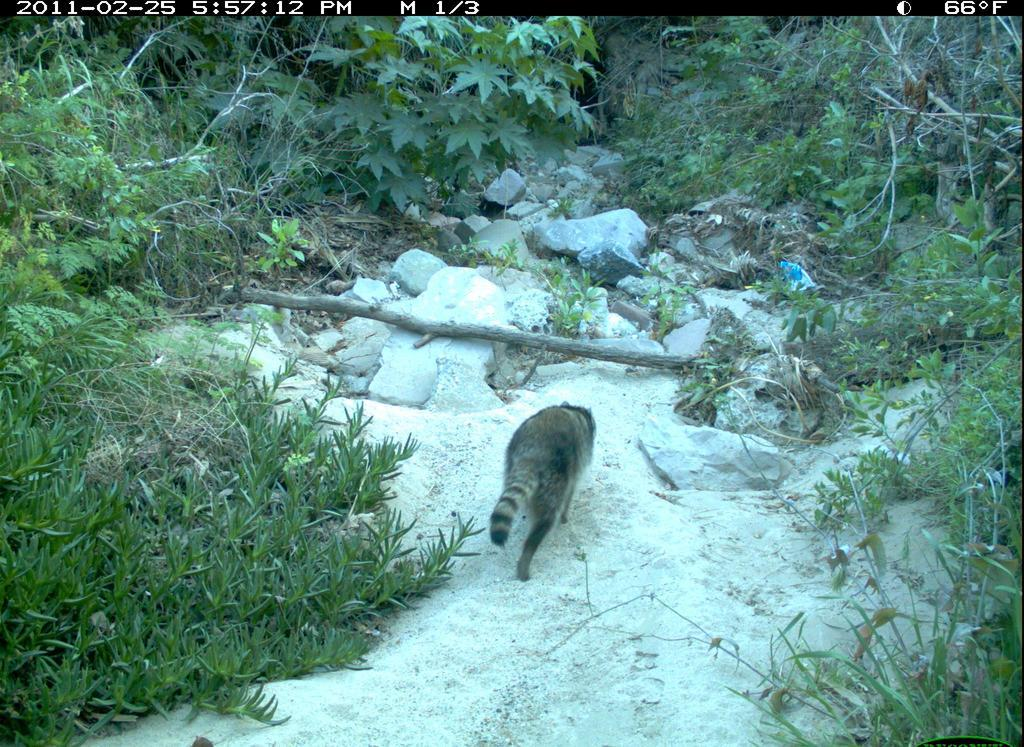raccoon: (484, 396, 602, 585)
